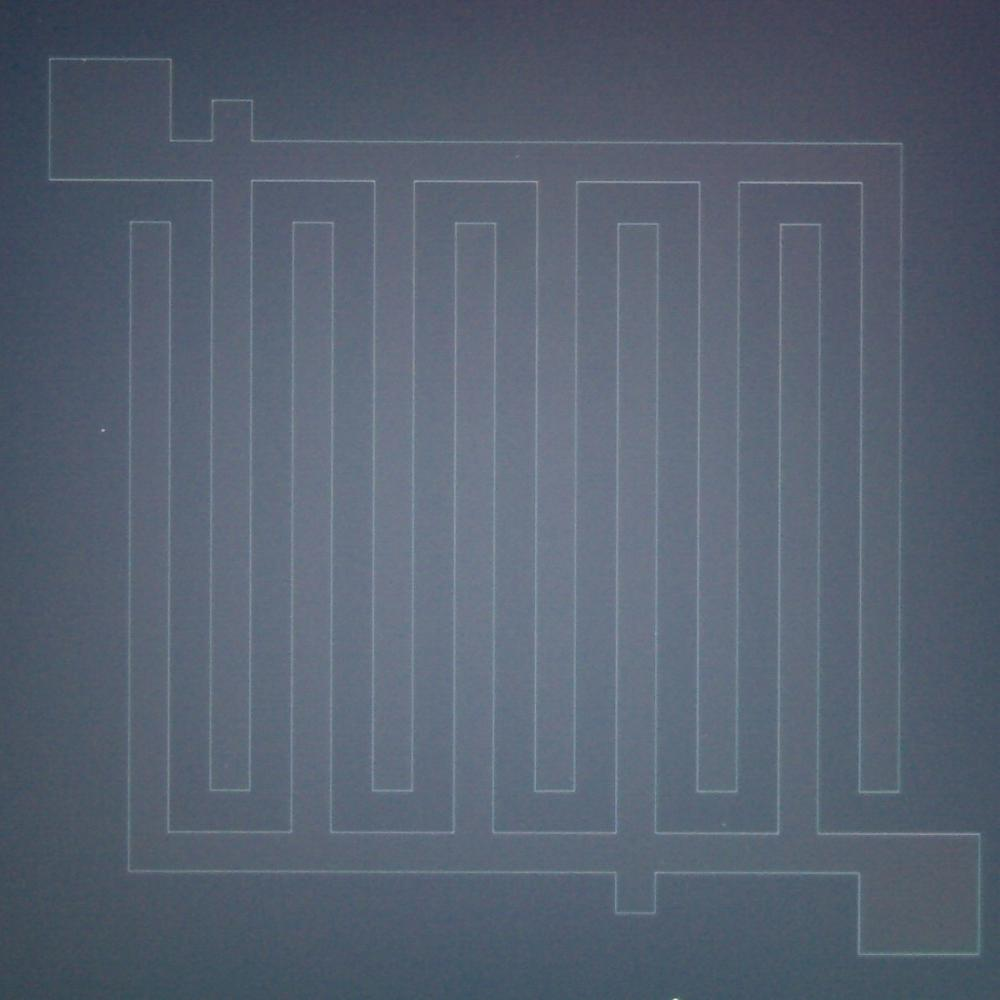dot: (101, 428, 106, 433)
